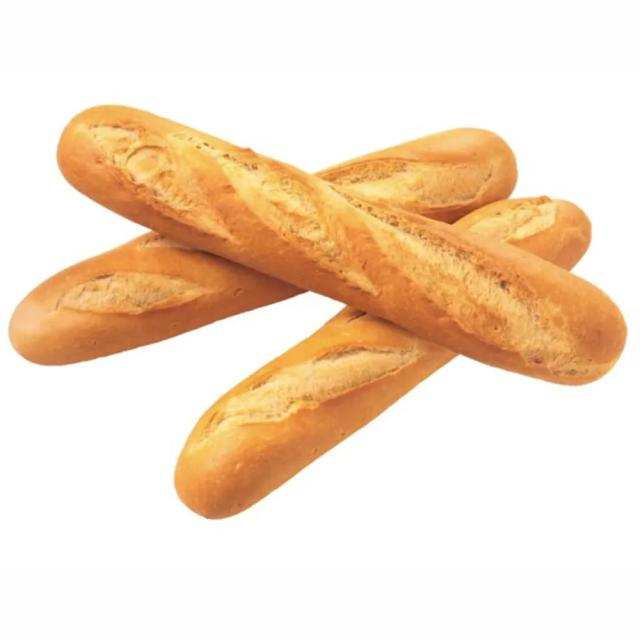Baguette: (58, 106, 625, 383), (174, 307, 455, 518), (9, 231, 305, 365), (316, 129, 517, 223), (455, 196, 591, 270)
